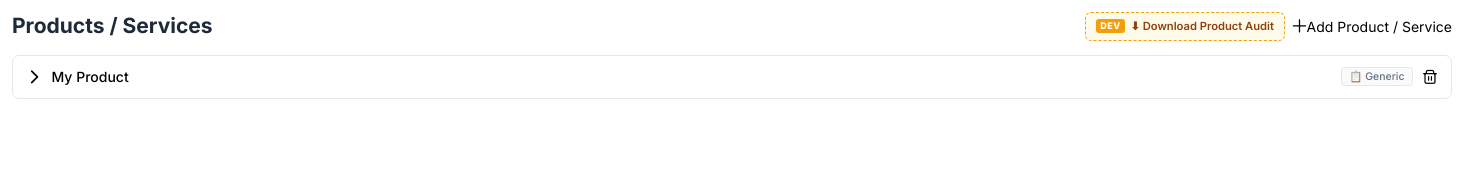
Test: ProductsView — inline rename (Bug 1 regression) › rename input uses a function ref — no "ref" attribute on the DOM element
Double-click the text with class "font-medium" showing "My Product" at (90, 77), box [52,68,129,85]
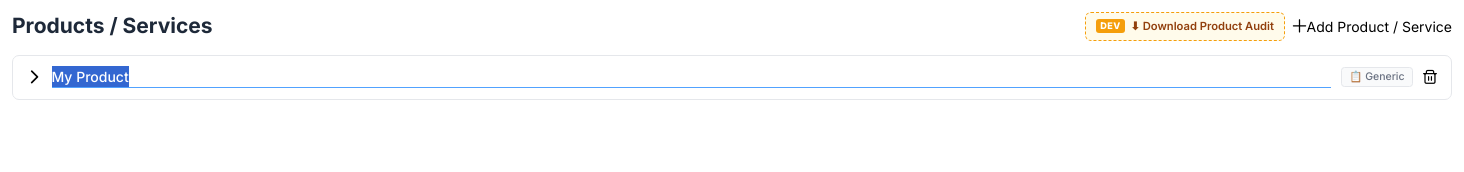
Expected: the 1st field with class "font-medium" is shown, [52,66,1331,88]
